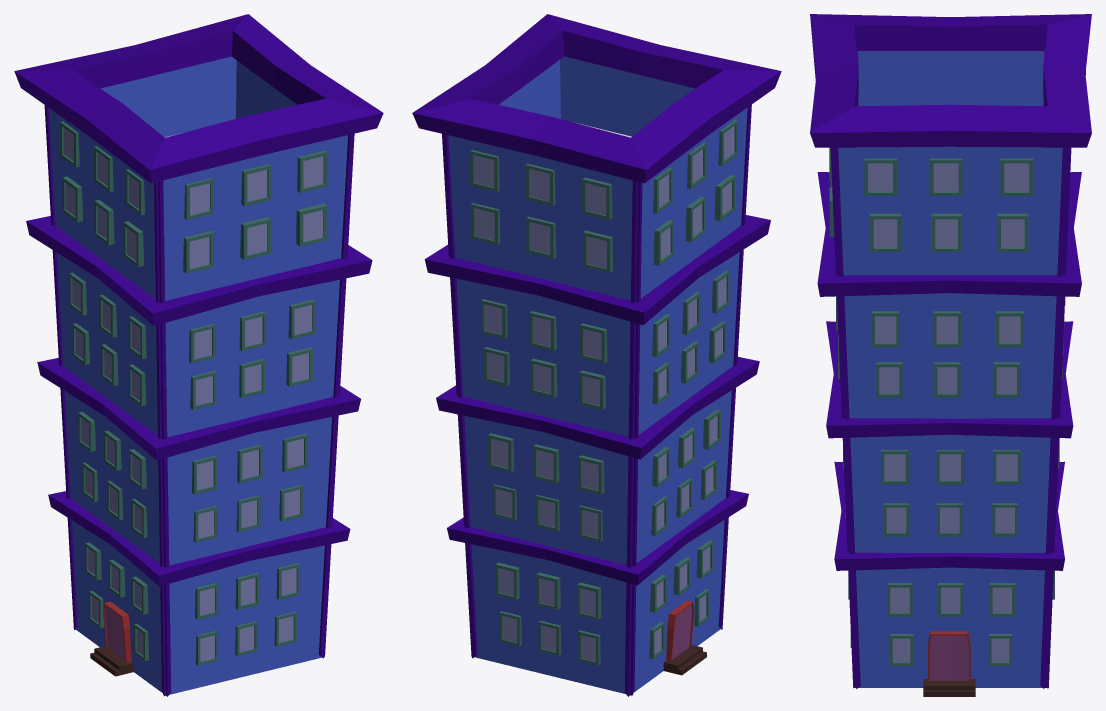
Rendered from building.fbx.
3 renders of one model, left to right at view 1: azimuth 30°, elevation 25°; view 2: azimuth 150°, elevation 25°; view 3: azimuth 270°, elevation 25°, orthographic. The views are drawn at different scales.
Parts seen in each view (by area): view 1: building, Cube.067, door, steps.001; view 2: building, Cube.067, door, steps.001; view 3: building, Cube.067, door, steps.001.
Boxes of the visible parts, x1,y1,x2,y2 form: building: (14, 14, 383, 696); Cube.067: (60, 121, 327, 665); door: (103, 601, 131, 662); steps.001: (90, 646, 133, 676); building: (412, 14, 781, 696); Cube.067: (470, 119, 737, 665); door: (666, 600, 693, 661); steps.001: (663, 645, 706, 675); building: (810, 14, 1091, 689); Cube.067: (829, 147, 1067, 665); door: (928, 631, 970, 681); steps.001: (923, 679, 975, 696).
Size of the model in its own units: 14090 by 32156 by 14090.
